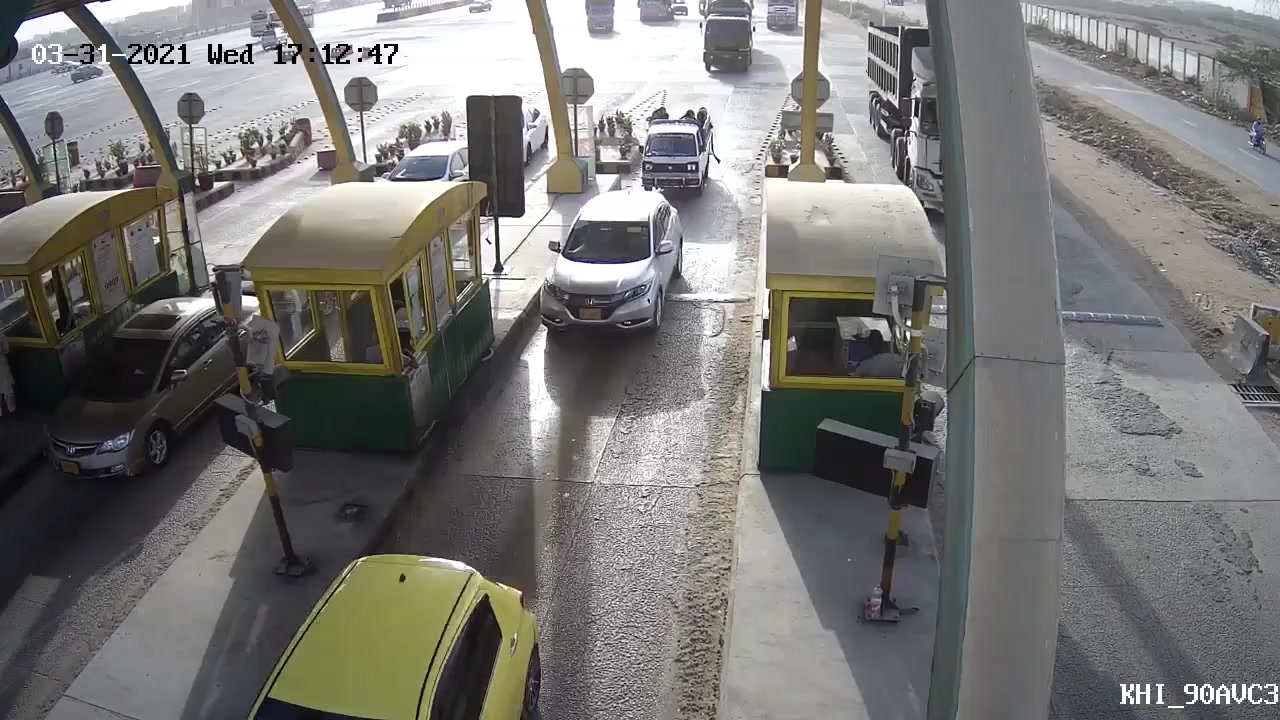F1: (522, 188, 691, 362), (635, 99, 722, 194)
